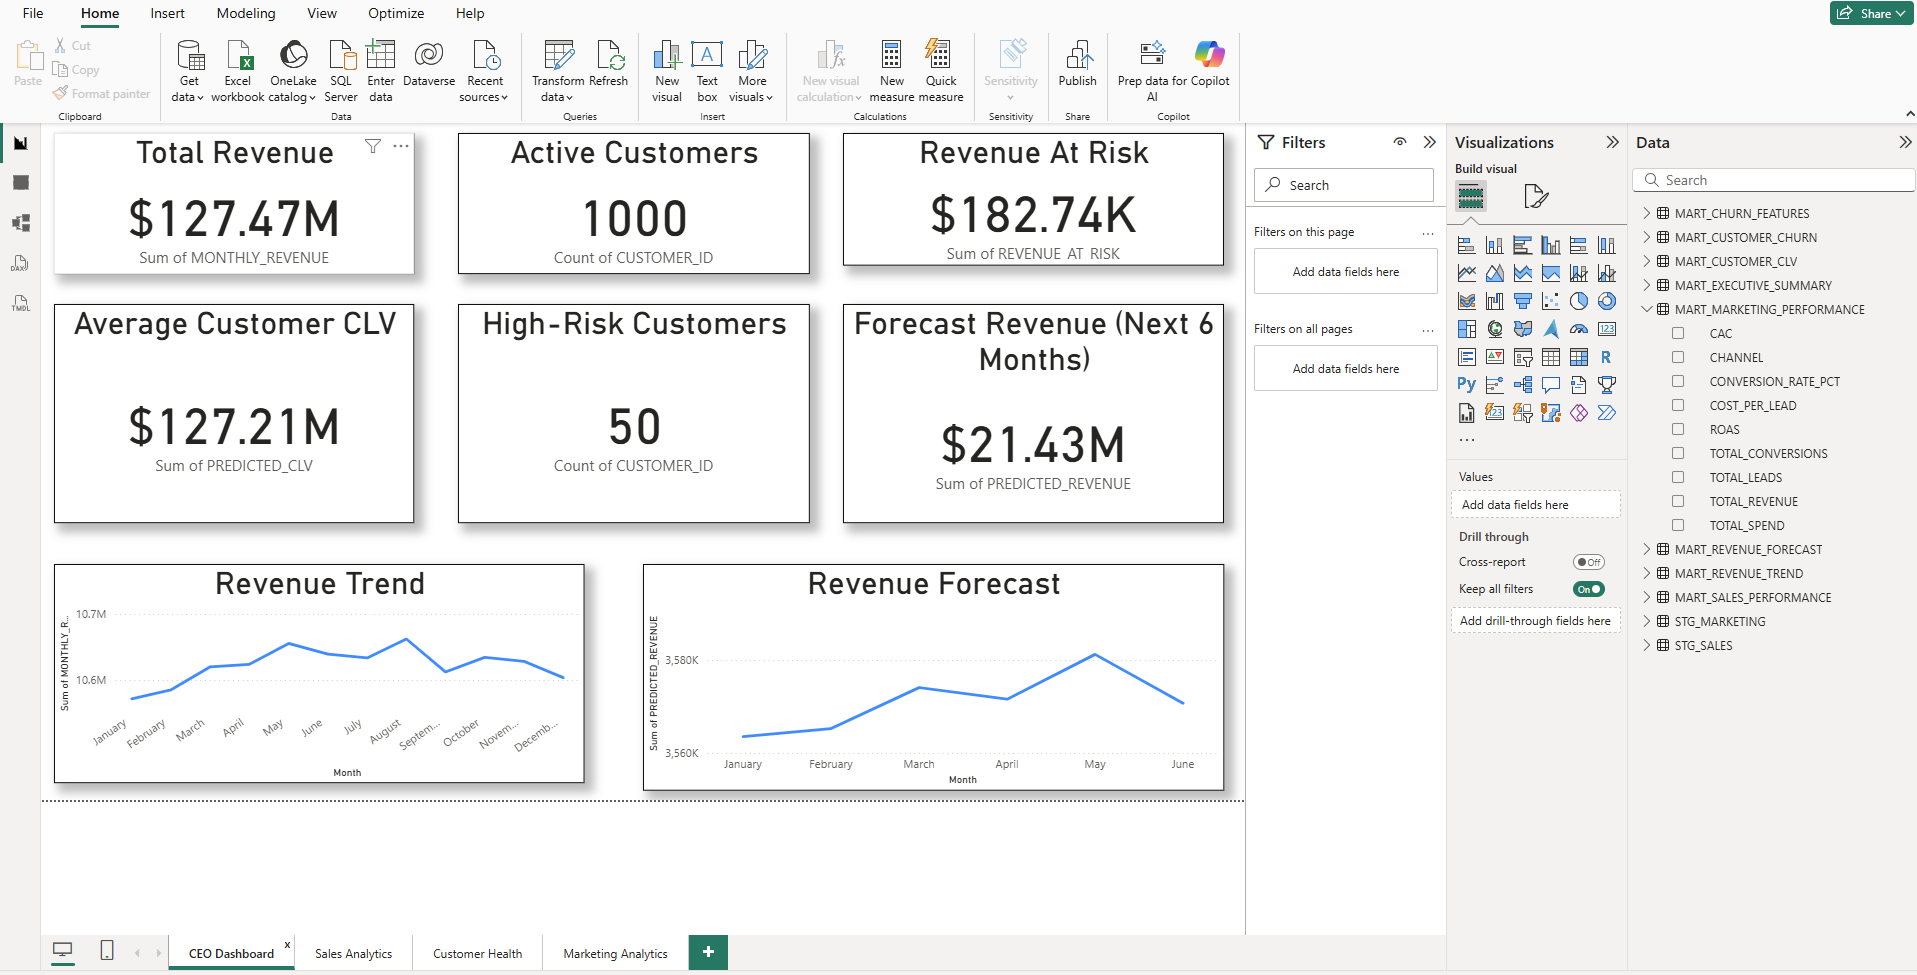

Layout of this report page (visuals, bound fields, positions):
{"tool":"powerbi","page":{"name":"CEO Dashboard","canvas":[1280,720],"ordinal":0},"visuals":[{"type":"card","title":"Total Revenue","fields":{"Values":["Sum(MART_REVENUE_TREND.MONTHLY_REVENUE)"]},"box":[13.9,10.7,383.1,149.8],"z":0},{"type":"card","title":"Revenue At Risk","fields":{"Values":["Sum(MART_CUSTOMER_CHURN.REVENUE_AT_RISK)"]},"box":[853,10.7,404.5,141.3],"z":1000},{"type":"card","title":"Active Customers","fields":{"Values":["Count(MART_CUSTOMER_CLV.CUSTOMER_ID)"]},"box":[443.1,10.7,373.5,149.8],"z":2000},{"type":"card","title":"Average Customer CLV","fields":{"Values":["Sum(MART_CUSTOMER_CLV.PREDICTED_CLV)"]},"box":[13.9,192.6,383.1,233.3],"z":3000},{"type":"card","title":"Forecast Revenue (Next 6 Months)","fields":{"Values":["Sum(MART_REVENUE_FORECAST.PREDICTED_REVENUE)"]},"box":[853,192.6,404.5,233.3],"z":4000},{"type":"card","title":"High-Risk Customers","fields":{"Values":["Count(MART_CUSTOMER_CHURN.CUSTOMER_ID)"]},"box":[443.1,192.6,373.5,233.3],"z":5000},{"type":"lineChart","title":"Revenue Trend","fields":{"Category":["MART_REVENUE_TREND.REVENUE_MONTH.Variation.Date Hierarchy.Month"],"Y":["Sum(MART_REVENUE_TREND.MONTHLY_REVENUE)"]},"box":[13.9,468.8,564,233.3],"z":6000},{"type":"lineChart","title":"Revenue Forecast","fields":{"Category":["MART_REVENUE_FORECAST.FORECAST_MONTH.Variation.Date Hierarchy.Month"],"Y":["Sum(MART_REVENUE_FORECAST.PREDICTED_REVENUE)"]},"box":[640,468.8,617.5,240.8],"z":7000}]}

Visuals, with their boxes on the page's 1280x720 design canvas (x1, y1, x2, y2). These are canvas units, not pixel positions in the 1917x975 screenshot, which may show the page scaled, cropped or inside an application window:
"Total Revenue" card: {"left": 14, "top": 11, "right": 397, "bottom": 160}
"Revenue At Risk" card: {"left": 853, "top": 11, "right": 1258, "bottom": 152}
"Active Customers" card: {"left": 443, "top": 11, "right": 817, "bottom": 160}
"Average Customer CLV" card: {"left": 14, "top": 193, "right": 397, "bottom": 426}
"Forecast Revenue (Next 6 Months)" card: {"left": 853, "top": 193, "right": 1258, "bottom": 426}
"High-Risk Customers" card: {"left": 443, "top": 193, "right": 817, "bottom": 426}
"Revenue Trend" lineChart: {"left": 14, "top": 469, "right": 578, "bottom": 702}
"Revenue Forecast" lineChart: {"left": 640, "top": 469, "right": 1258, "bottom": 710}
